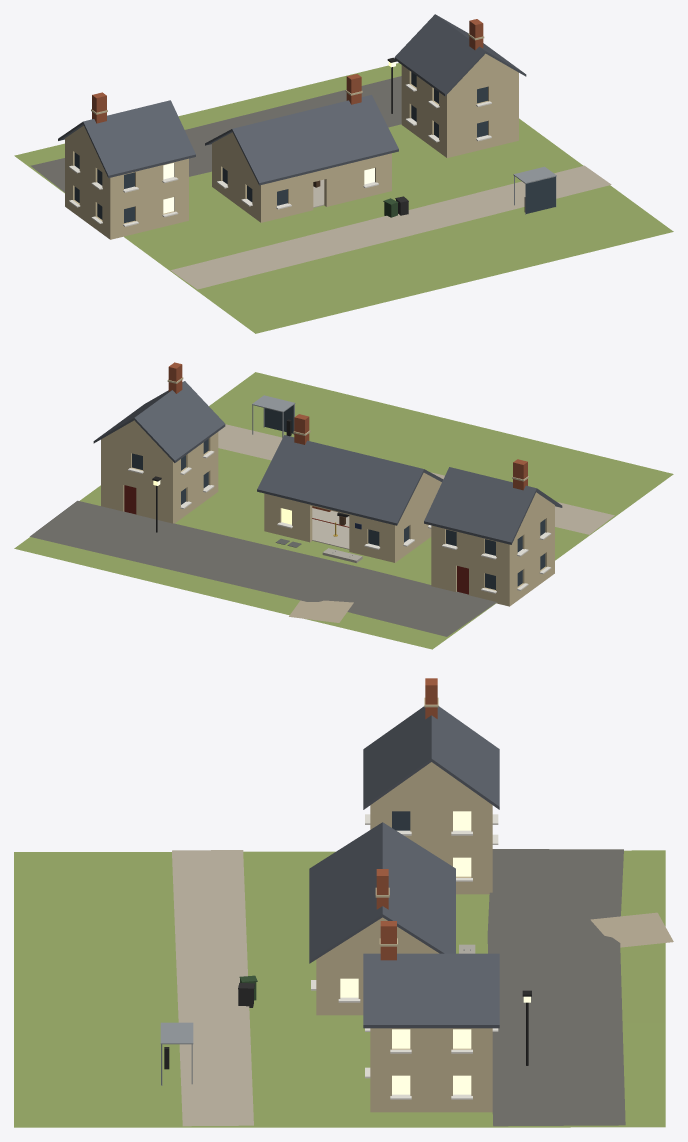
File: forge-morning.glb
3 views of the same model, one above another, from view 1: azimuth 30°, elevation 25°; view 2: azimuth 150°, elevation 25°; view 3: azimuth 270°, elevation 25° (orthographic). The views are drawn at different scales.
Parts seen in each view (by area): view 1: ground, ground_lanes, cut_roof_forge, street_2_shell, street_1_shell, forge_shell, cut_roof_street_1, cut_roof_street_2, street_1_walls, prop_smoke, street_2_walls, forge_walls; view 2: ground, ground_lanes, cut_roof_forge, street_2_shell, street_1_shell, cut_roof_street_1, forge_shell, cut_roof_street_2, street_1_walls, forge_inside, prop_smoke, street_2_walls (+1 smaller); view 3: ground, ground_lanes, cut_roof_forge, cut_roof_street_2, street_2_shell, cut_roof_street_1, street_1_shell, forge_shell, street_2_walls, street_1_walls, prop_smoke.
Boxes of the visible parts, x1,y1,x2,y2 form: ground: [14, 63, 673, 333]; ground_lanes: [30, 76, 611, 289]; cut_roof_forge: [205, 74, 398, 185]; street_2_shell: [401, 53, 518, 157]; street_1_shell: [65, 125, 188, 239]; forge_shell: [212, 132, 391, 222]; cut_roof_street_1: [58, 92, 195, 178]; cut_roof_street_2: [394, 14, 526, 96]; street_1_walls: [69, 152, 178, 226]; prop_smoke: [513, 166, 556, 214]; street_2_walls: [405, 72, 491, 142]; forge_walls: [216, 168, 378, 209]; ground: [14, 372, 673, 649]; ground_lanes: [30, 424, 614, 636]; cut_roof_forge: [257, 414, 443, 525]; street_2_shell: [101, 420, 218, 523]; street_1_shell: [431, 492, 554, 606]; cut_roof_street_1: [424, 459, 562, 544]; forge_shell: [264, 473, 441, 562]; cut_roof_street_2: [93, 362, 225, 462]; street_1_walls: [442, 519, 551, 594]; forge_inside: [312, 508, 349, 549]; prop_smoke: [252, 395, 295, 438]; street_2_walls: [124, 439, 214, 514]; ground: [14, 850, 665, 1127]; ground_lanes: [172, 849, 673, 1126]; cut_roof_forge: [309, 822, 455, 963]; cut_roof_street_2: [363, 921, 499, 1028]; street_2_shell: [370, 1028, 492, 1112]; cut_roof_street_1: [363, 678, 499, 809]; street_1_shell: [370, 762, 492, 894]; forge_shell: [316, 917, 439, 1015]; street_2_walls: [365, 1028, 498, 1099]; street_1_walls: [365, 811, 498, 881]; prop_smoke: [160, 1022, 193, 1085].
Size of the model in its own units: 33.39 by 9.18 by 32.4.
